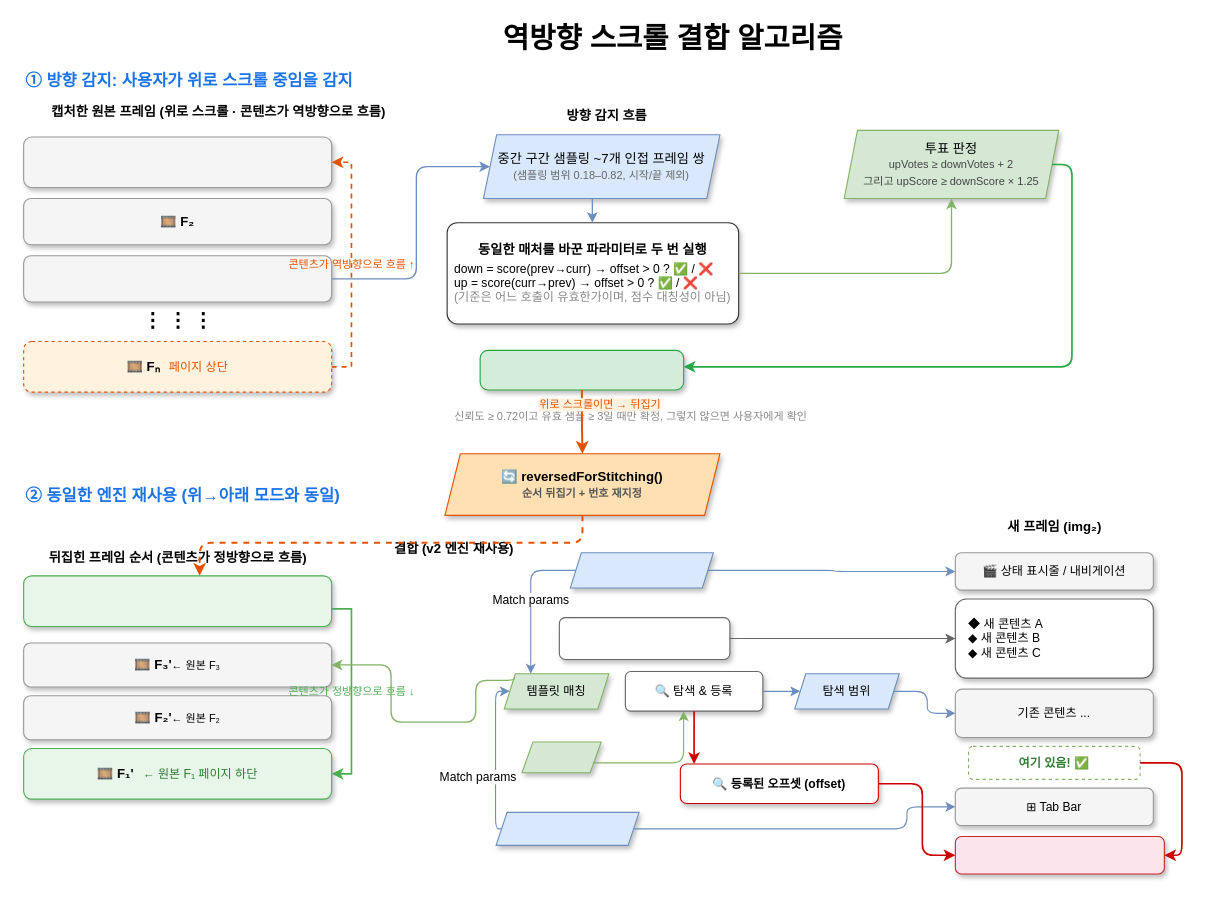
Image size: 1211x901. Some labels were removed from this diagram. Here are the shapes that lost their labels. From the top down, the centre of each, then its label:
At pixel 178 163: "🎞️ F₁ 페이지 하단".
At pixel 178 280: "🎞️ F₃".
At pixel 582 371: "✅ 판정: 위로 스크롤".
At pixel 642 571: "headerIgnore".
At pixel 178 602: "🎞️ Fₙ' ← 원본 Fₙ 페이지 상단".
At pixel 645 639: "등간격 프레임 샘플링 + 선명도 보정".
At pixel 562 758: "탐색".
At pixel 568 830: "footerIgnore".
At pixel 1060 856: "⚙️ 결합 적용 → 올바른 긴 이미지".
